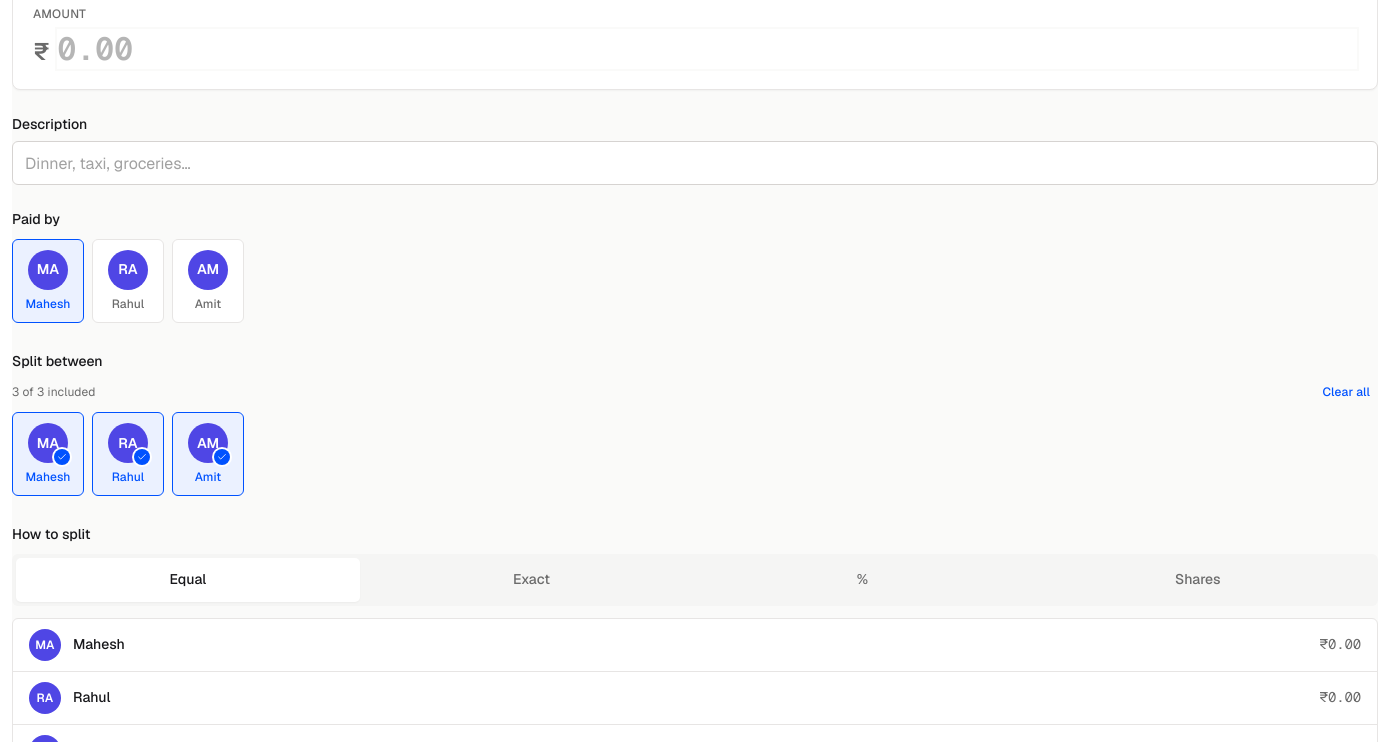
Test case: AddExpenseForm › blocks submit while an exact split does not add up, and enables it once it does
Type "900" into the field labelled "Amount" at x=707, y=49, box [57, 29, 1357, 69]
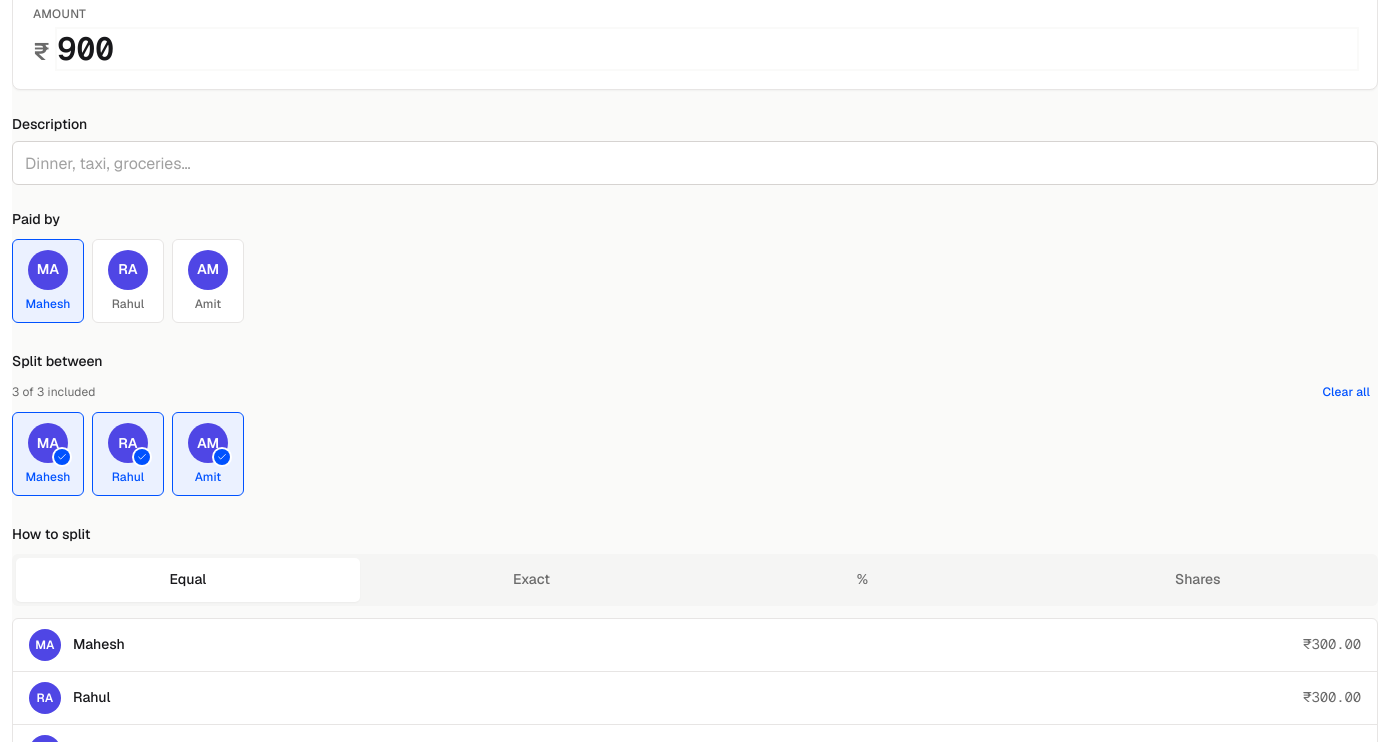
Type "Dinner" into the field labelled "Description" at x=695, y=163, box [12, 141, 1378, 185]
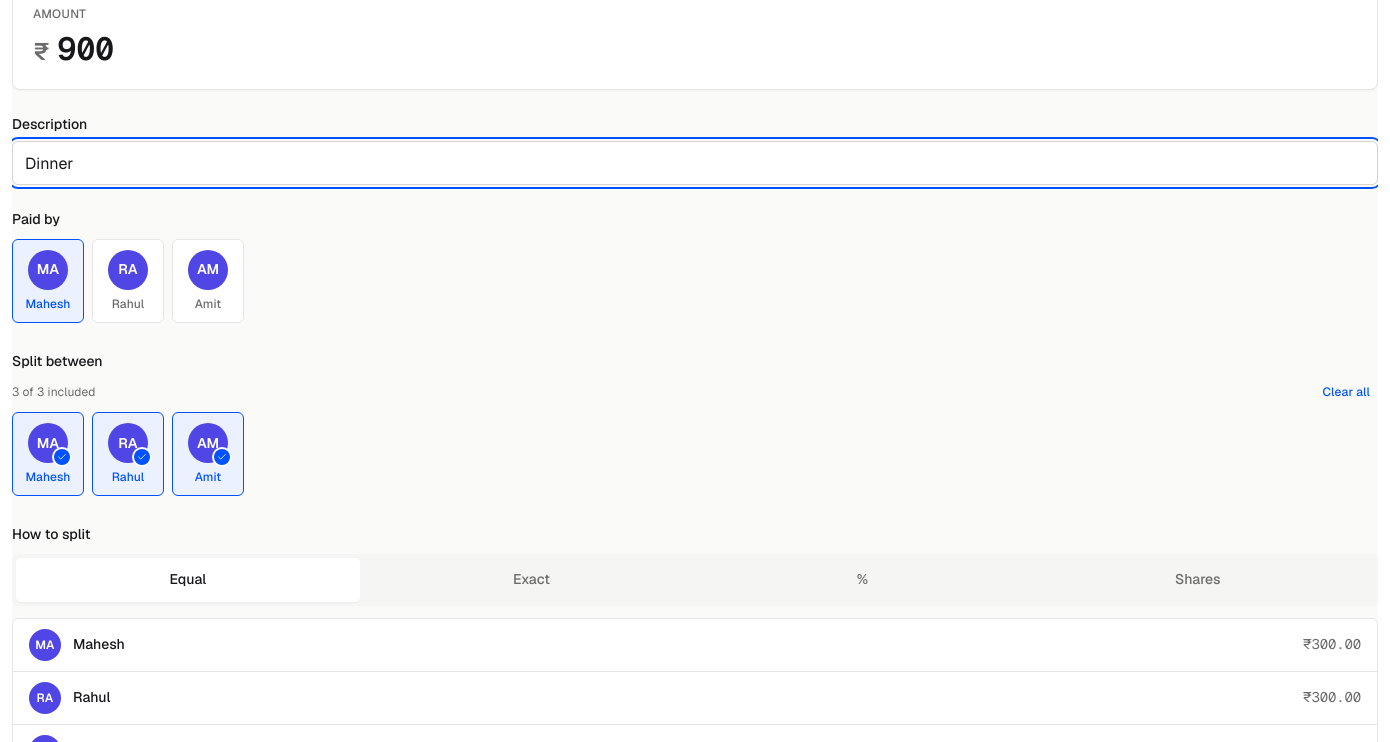
Click the radio button labelled "Exact" at x=531, y=580, box [360, 558, 703, 602]
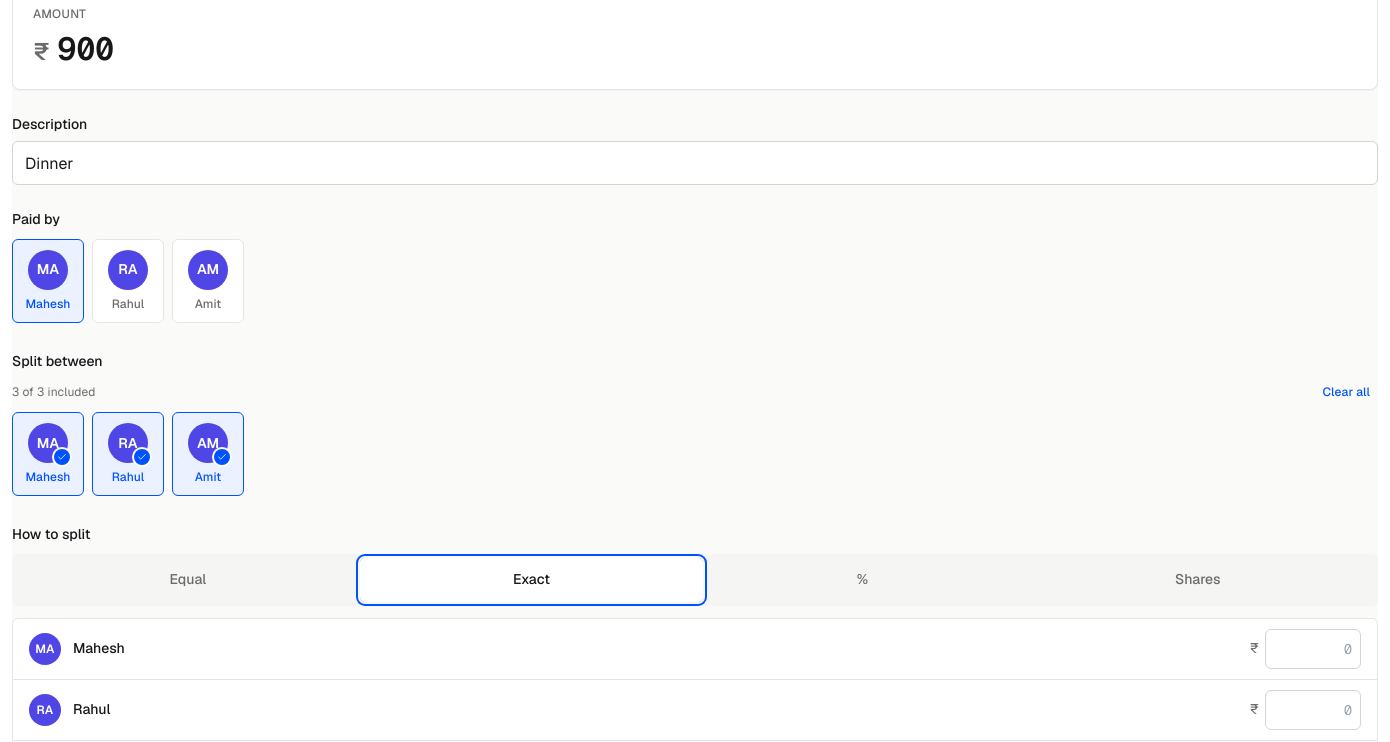
Type "300" into the field named "Amount for Mahesh" at x=1313, y=649, box [1265, 629, 1361, 669]
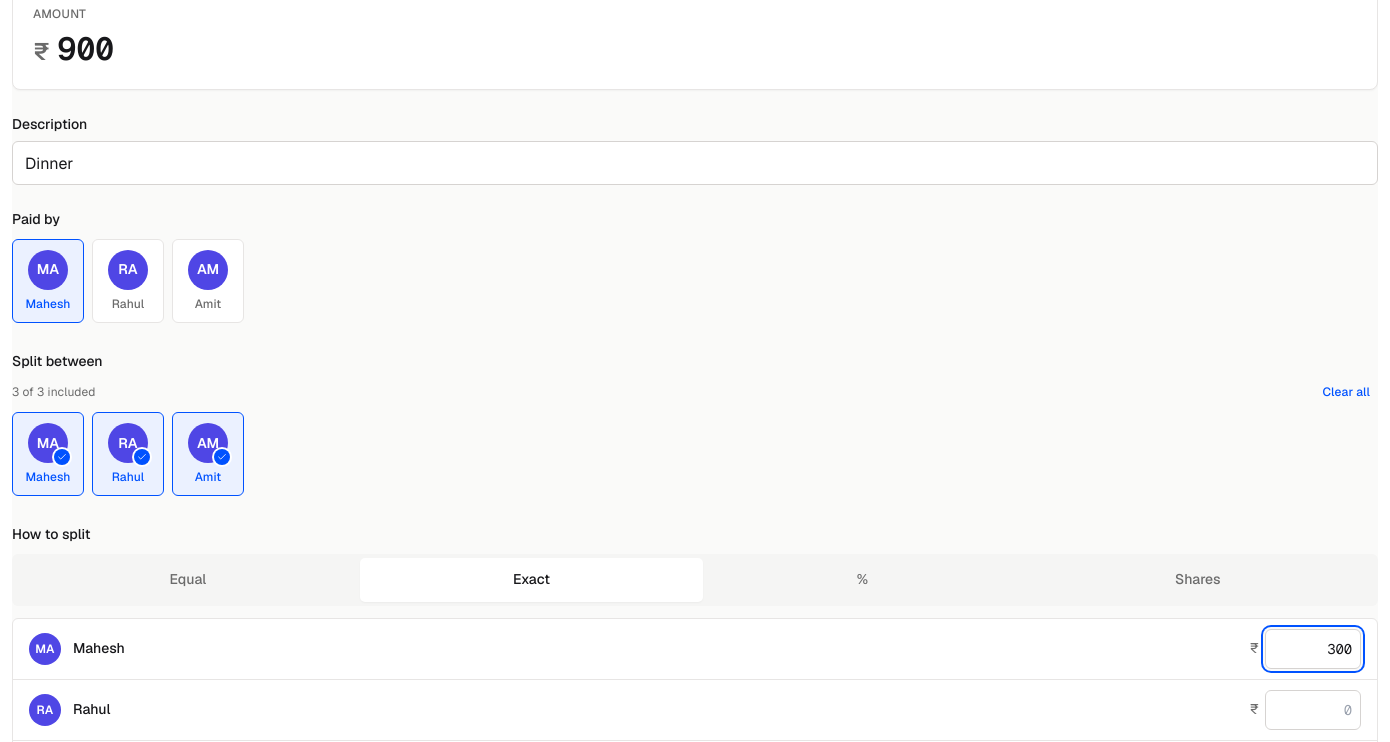
Type "300" into the field named "Amount for Rahul" at x=1313, y=710, box [1265, 690, 1361, 730]
(page scrolled)
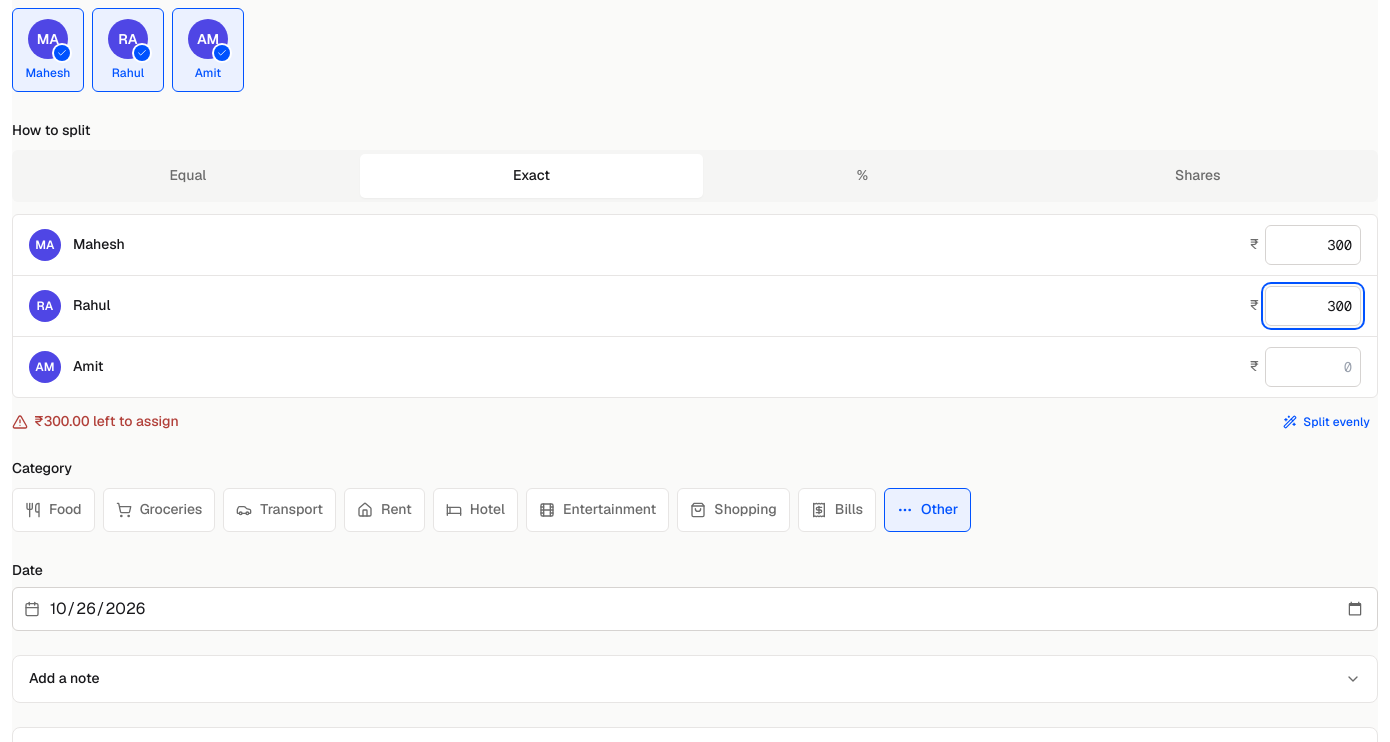
Type "300" into the field named "Amount for Amit" at x=1313, y=367, box [1265, 347, 1361, 387]
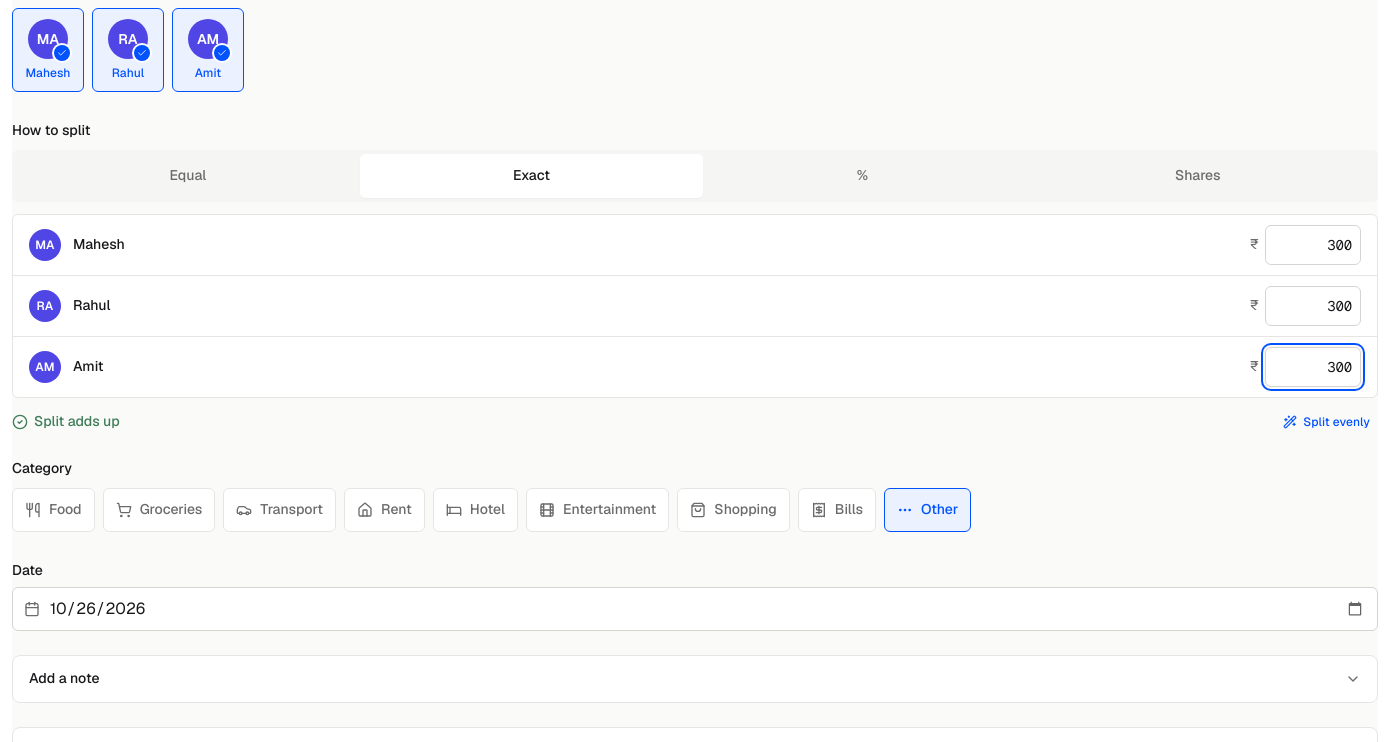
Expected: the text "Split adds up" is shown, [12, 411, 120, 433]
